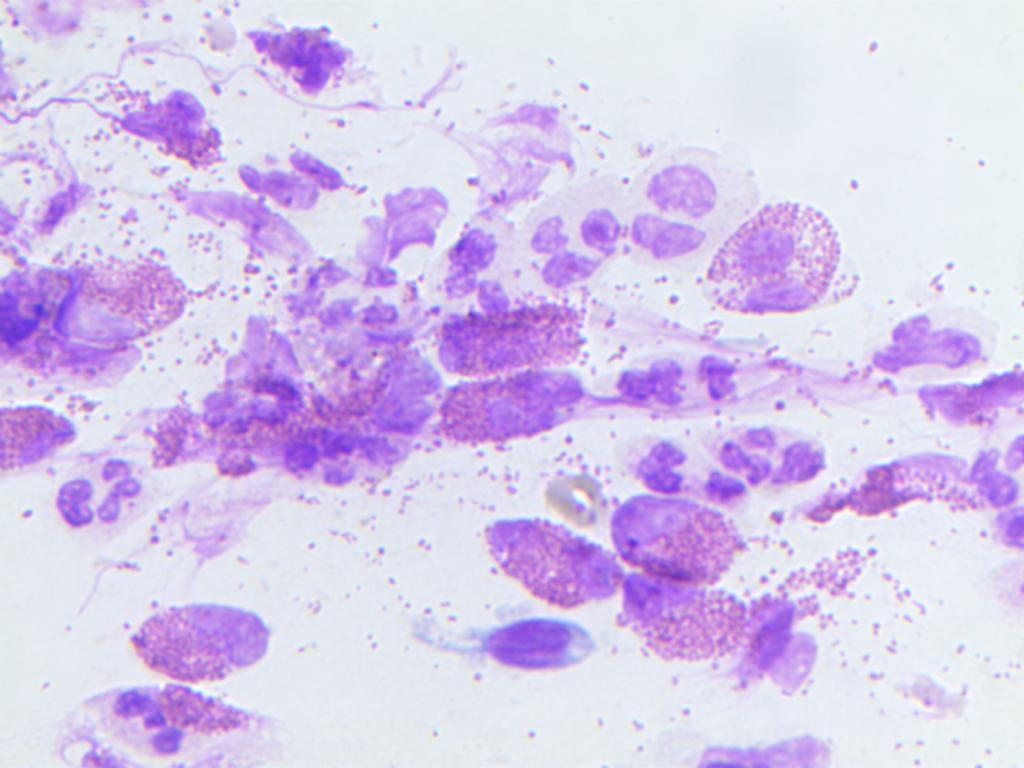artifact: (538, 459, 612, 531)
eosinophil: (137, 317, 422, 492), (6, 247, 189, 391), (781, 441, 987, 541), (704, 199, 844, 322), (470, 500, 624, 611), (96, 591, 283, 681), (748, 560, 866, 699), (89, 75, 238, 183), (608, 580, 763, 678), (78, 680, 279, 755), (431, 370, 611, 448), (430, 298, 606, 374), (607, 490, 747, 581), (231, 16, 364, 103), (0, 401, 86, 484)
epithelial: (403, 607, 606, 676)
neutrophil: (876, 291, 1024, 441), (624, 134, 768, 263), (276, 241, 420, 333), (605, 344, 750, 421), (520, 178, 617, 290), (431, 210, 532, 317), (234, 143, 375, 209), (46, 456, 155, 530), (714, 422, 831, 490), (616, 432, 707, 498)
